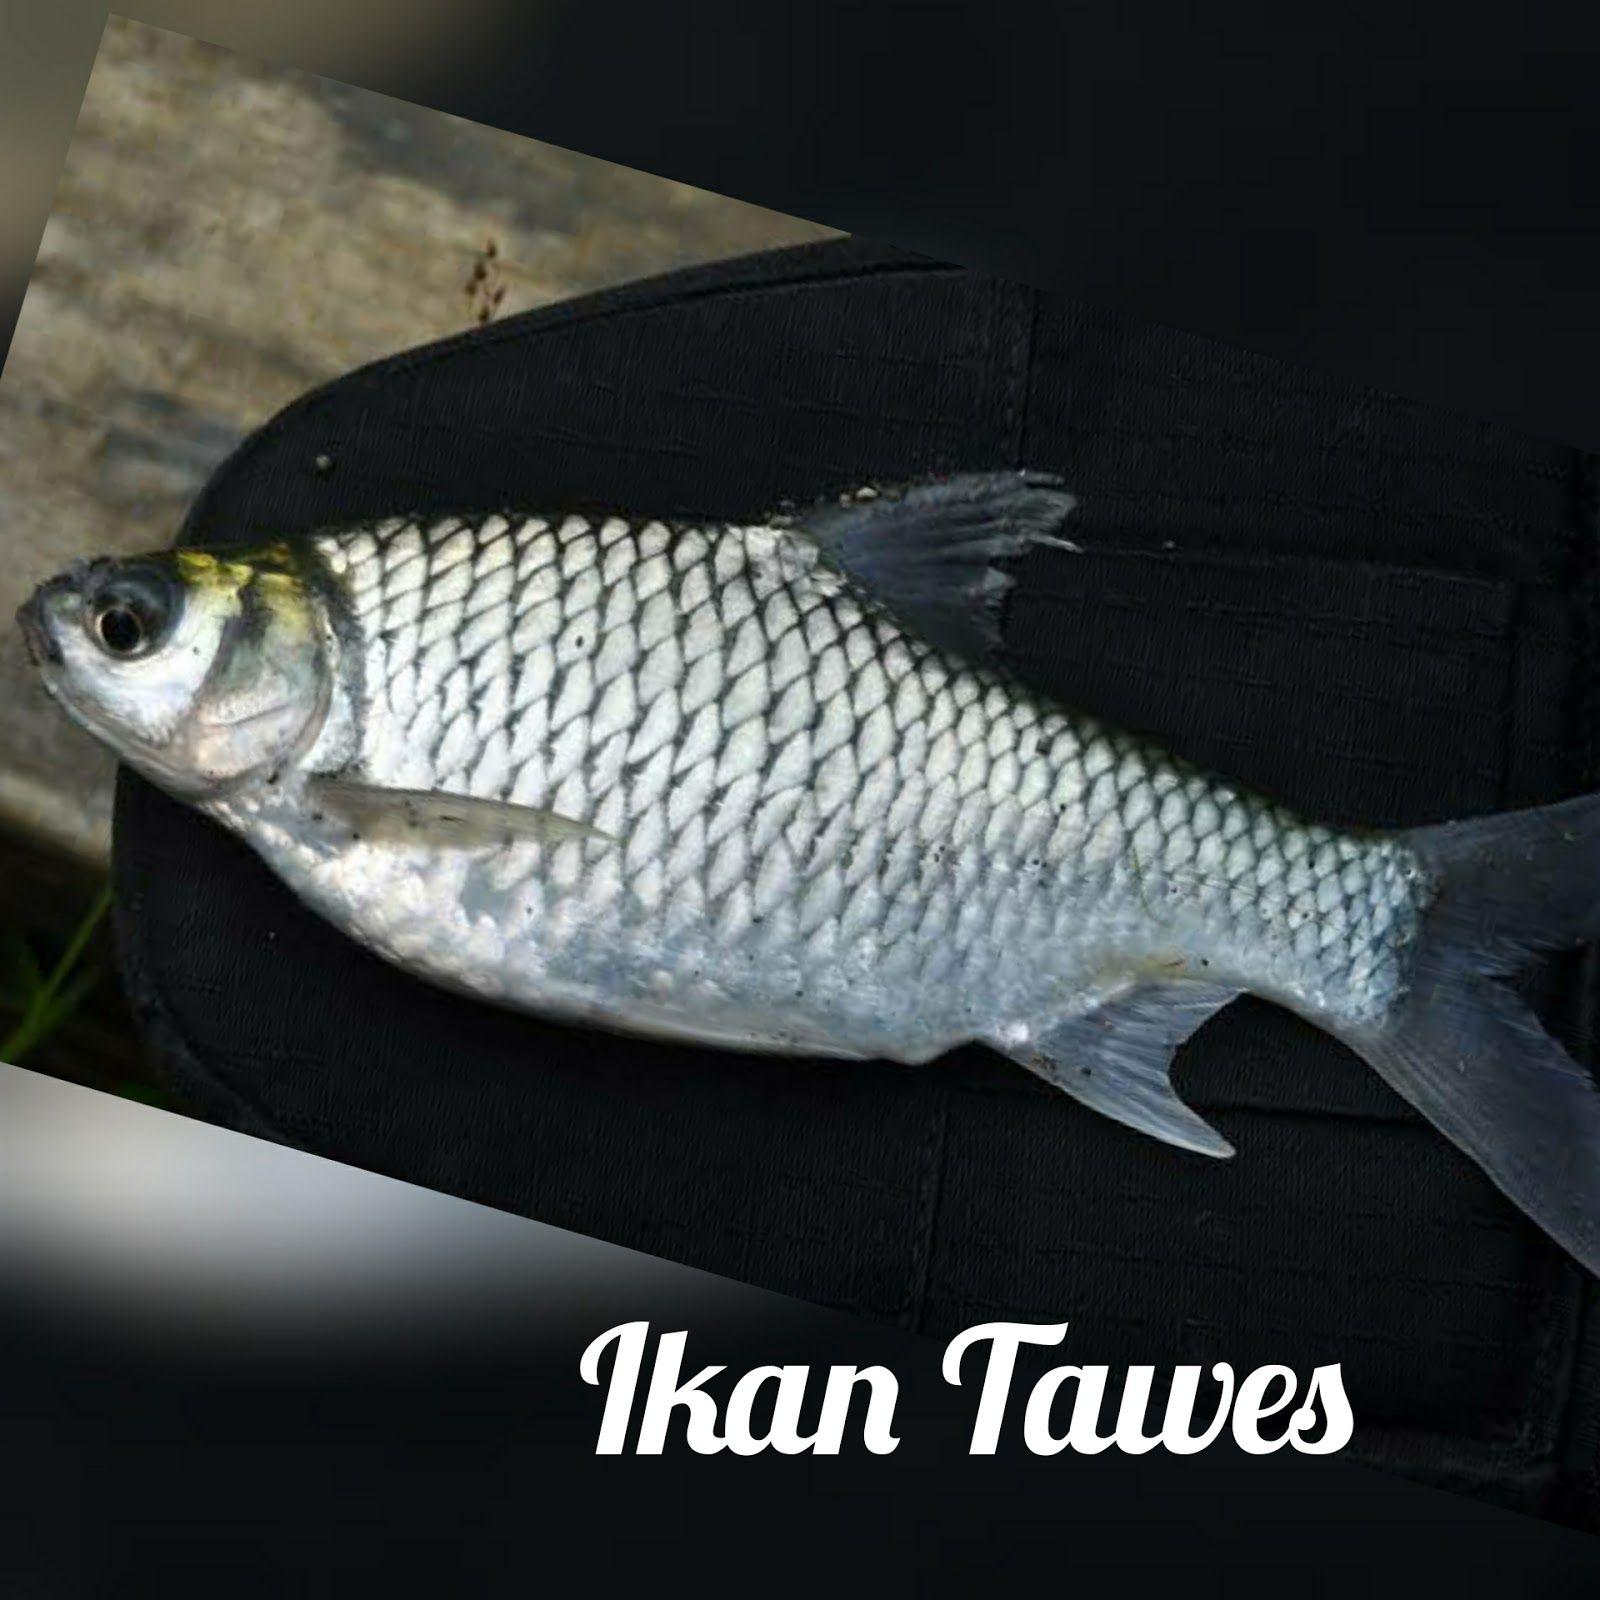Silver Barb: (57, 425, 1600, 1305)
